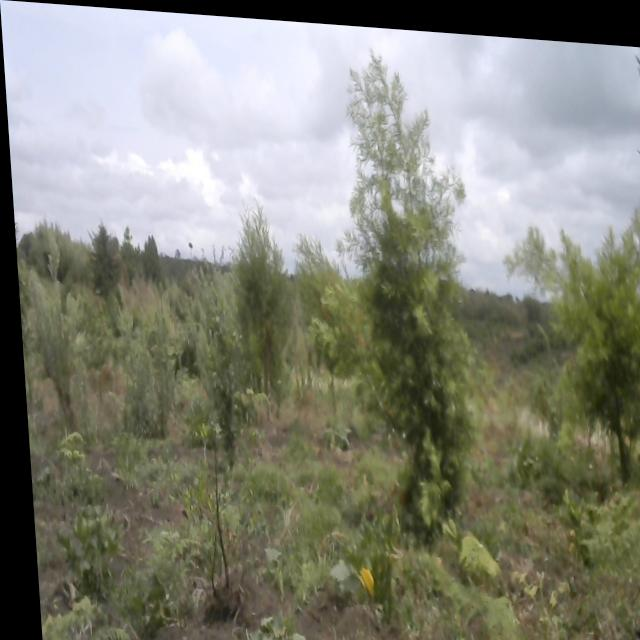Podocarpus falcatus: (323, 28, 477, 499), (543, 193, 640, 477)
cedrus: (224, 190, 298, 381), (83, 220, 119, 301)
